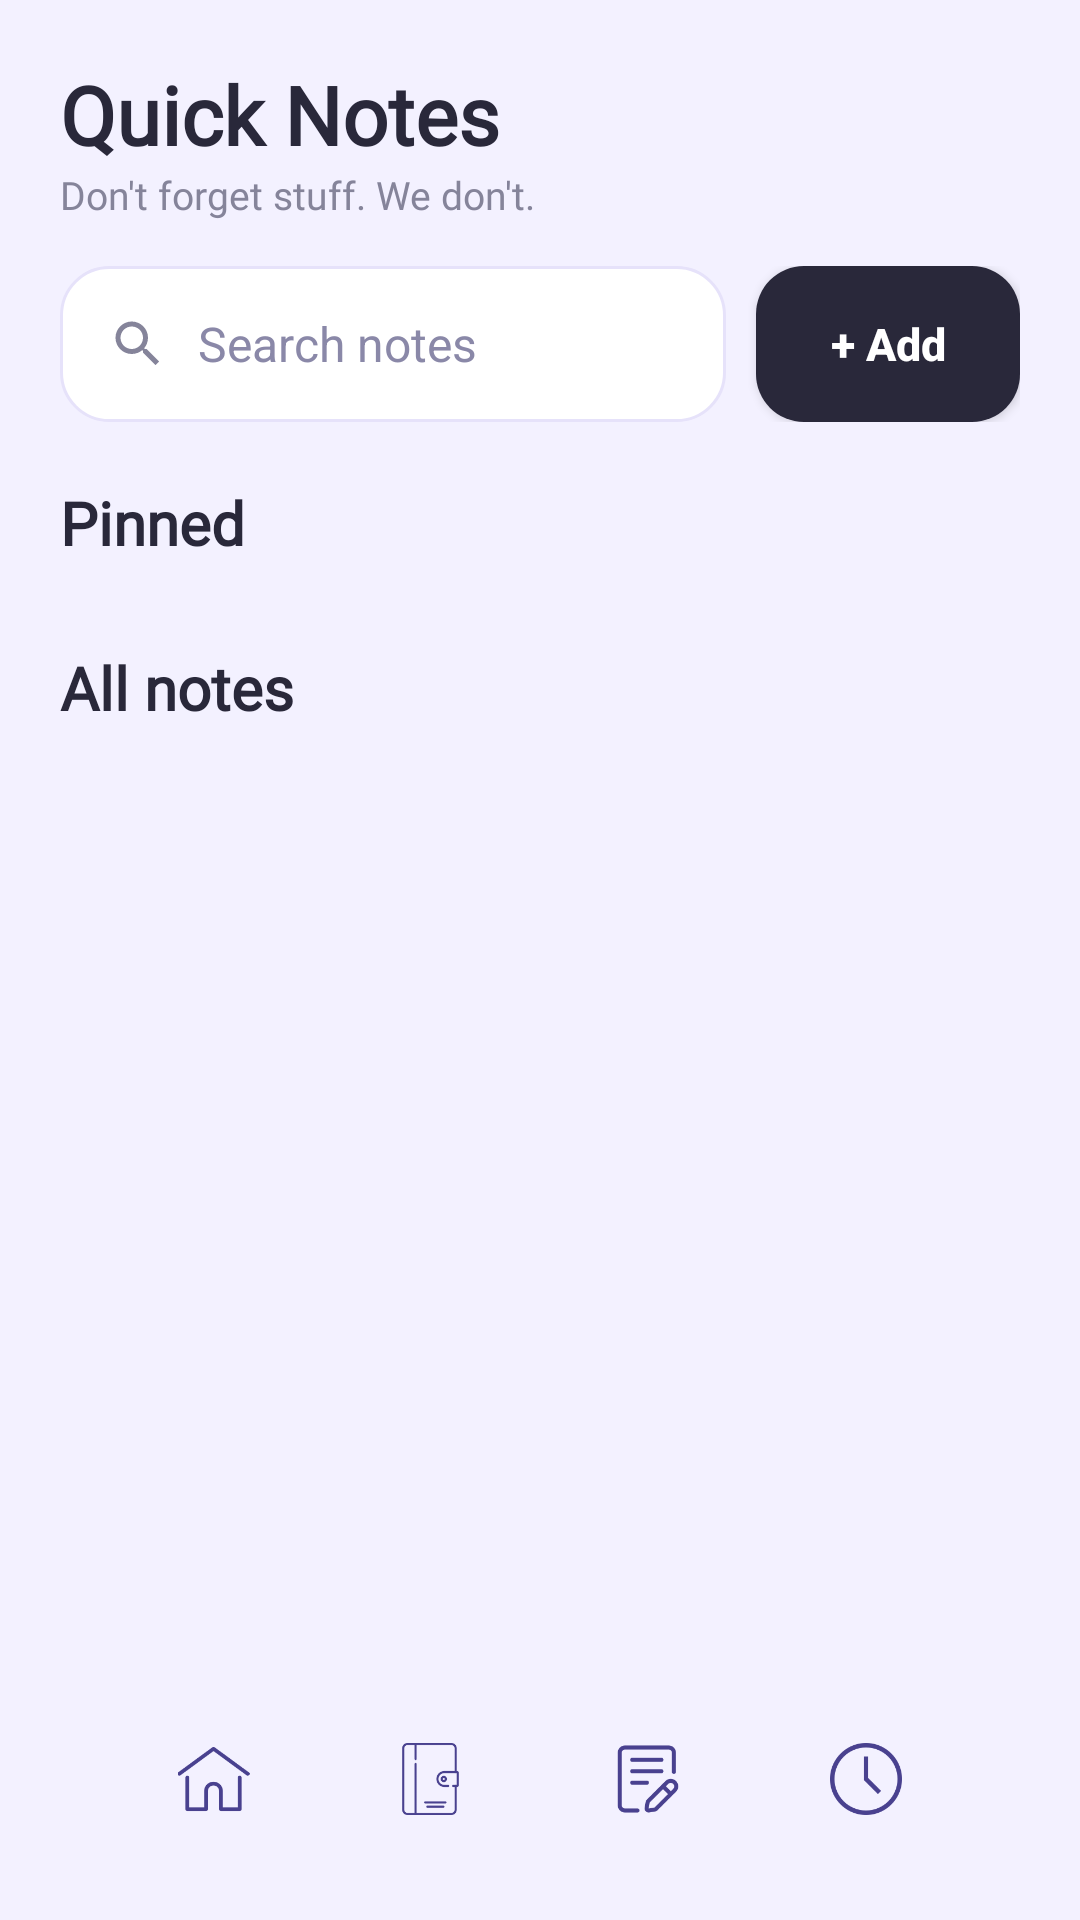

Icons on this 1080px x 1920px Android screen, each with the point to tap as [x,y]:
clock: [866,1779]
home: [214,1779]
journal: [430,1779]
note: [648,1779]
